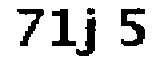1: (48, 8, 79, 50)
5: (115, 6, 153, 54)
7: (15, 5, 44, 49)
j: (78, 6, 102, 58)
